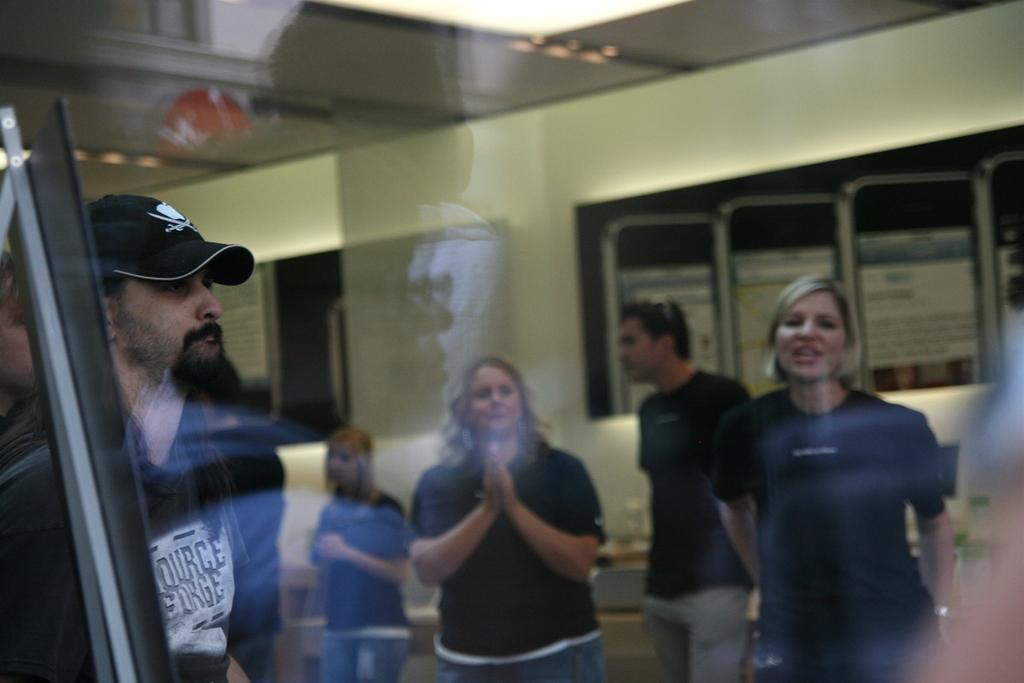Hat: (80, 193, 252, 287)
